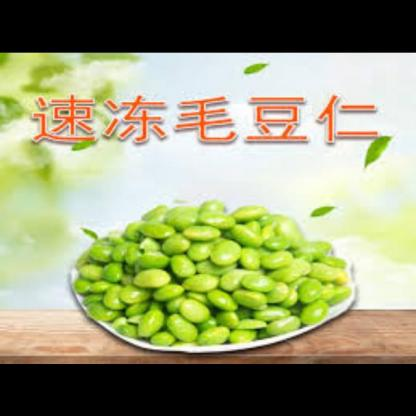beans: (73, 183, 372, 352)
